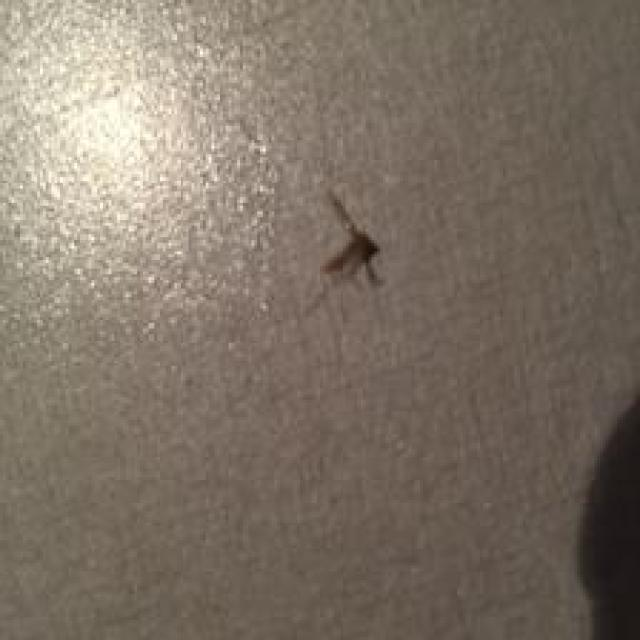Culex: (319, 187, 384, 287)
